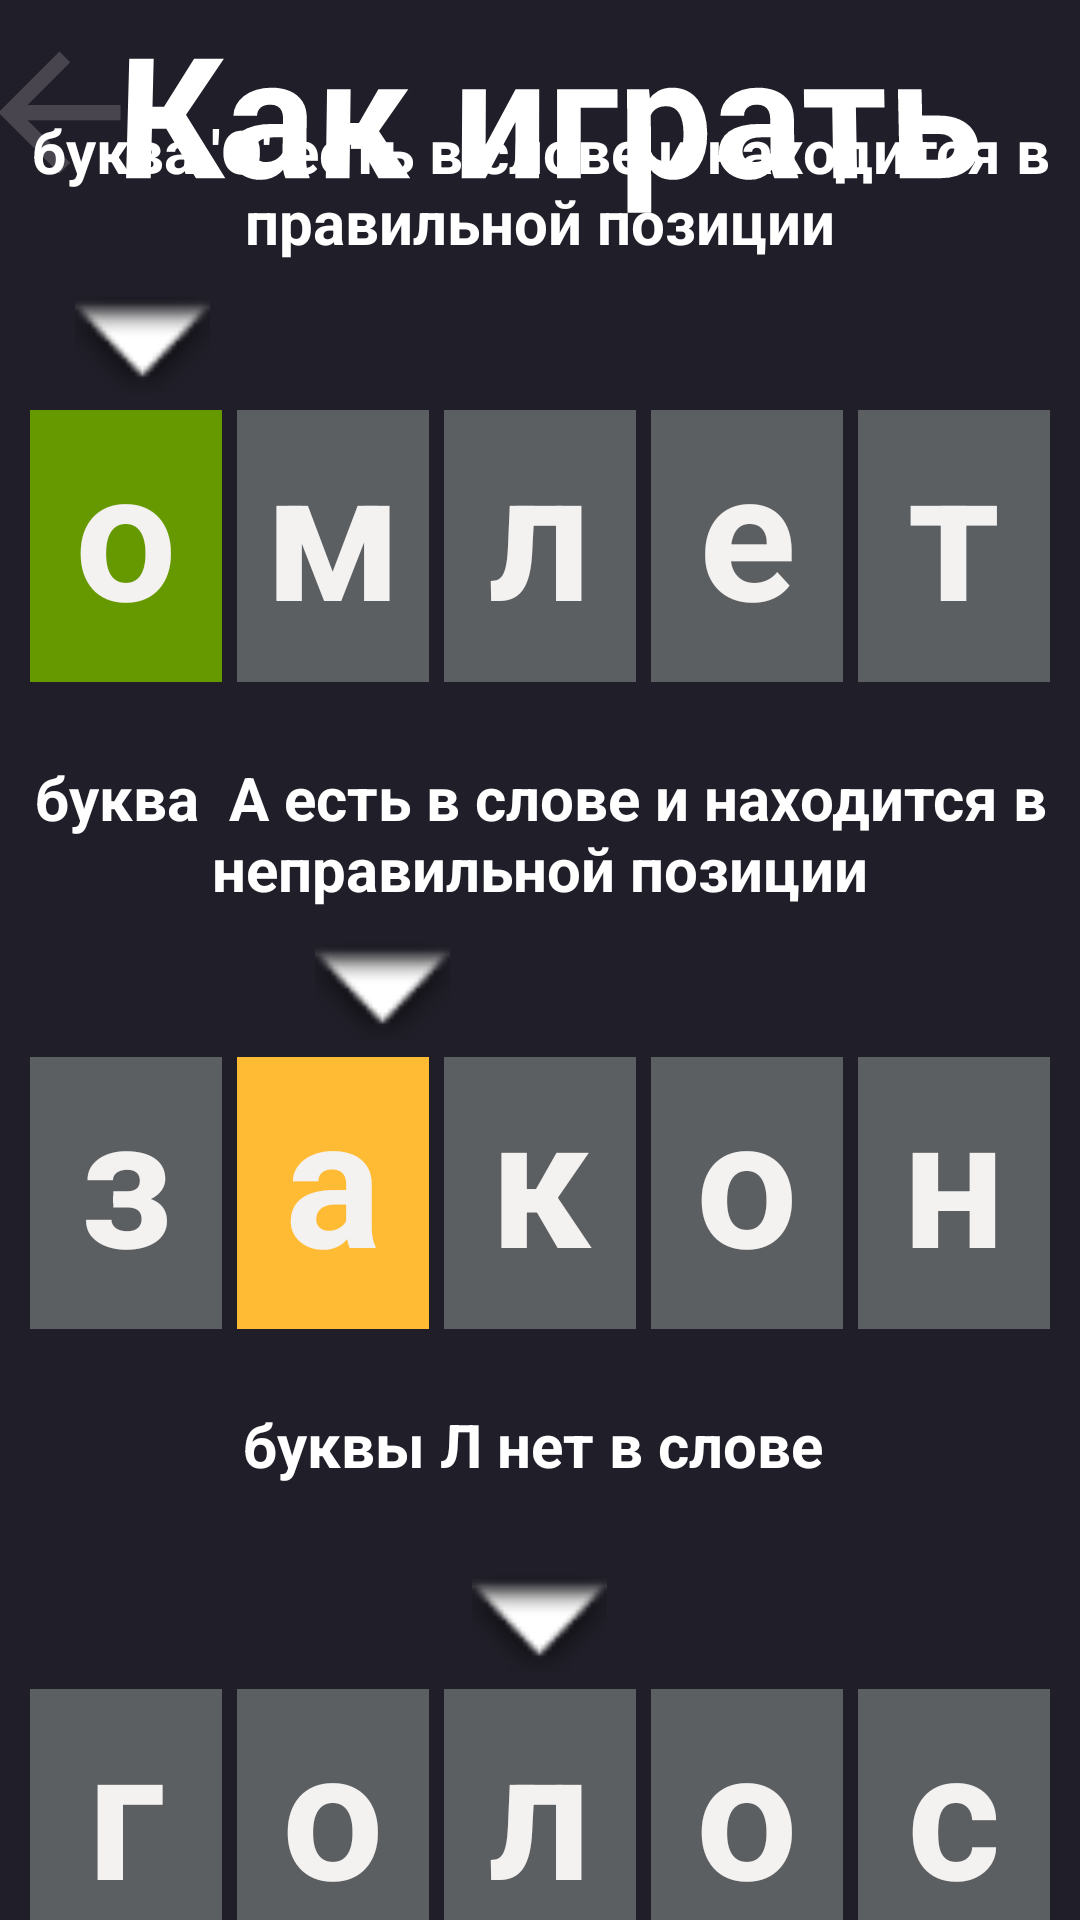

Point at icon controls on the screen. Image size 1080*1920, points as (x,y).
arrow down float: (142,341), (382,988), (539,1620)
